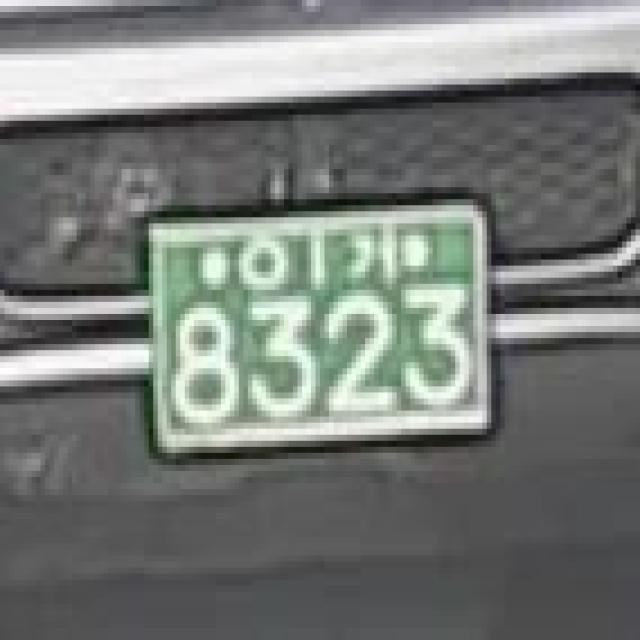illegal_plate: (131, 189, 507, 470)
